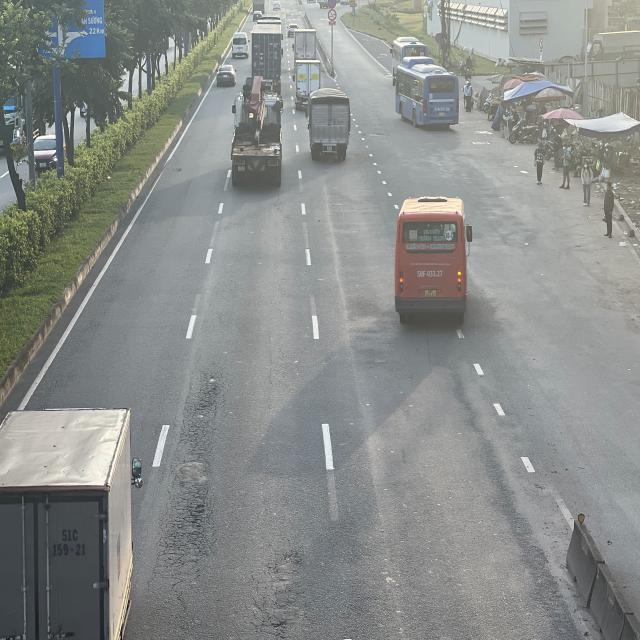car: (215, 64, 236, 88), (251, 11, 264, 21), (272, 1, 281, 10)
coach: (391, 58, 460, 126)
container: (229, 81, 282, 189), (252, 22, 284, 101)
truck: (0, 407, 138, 640), (306, 91, 349, 162), (292, 58, 322, 108), (293, 28, 319, 66)
van: (396, 196, 474, 323), (232, 33, 248, 58)
